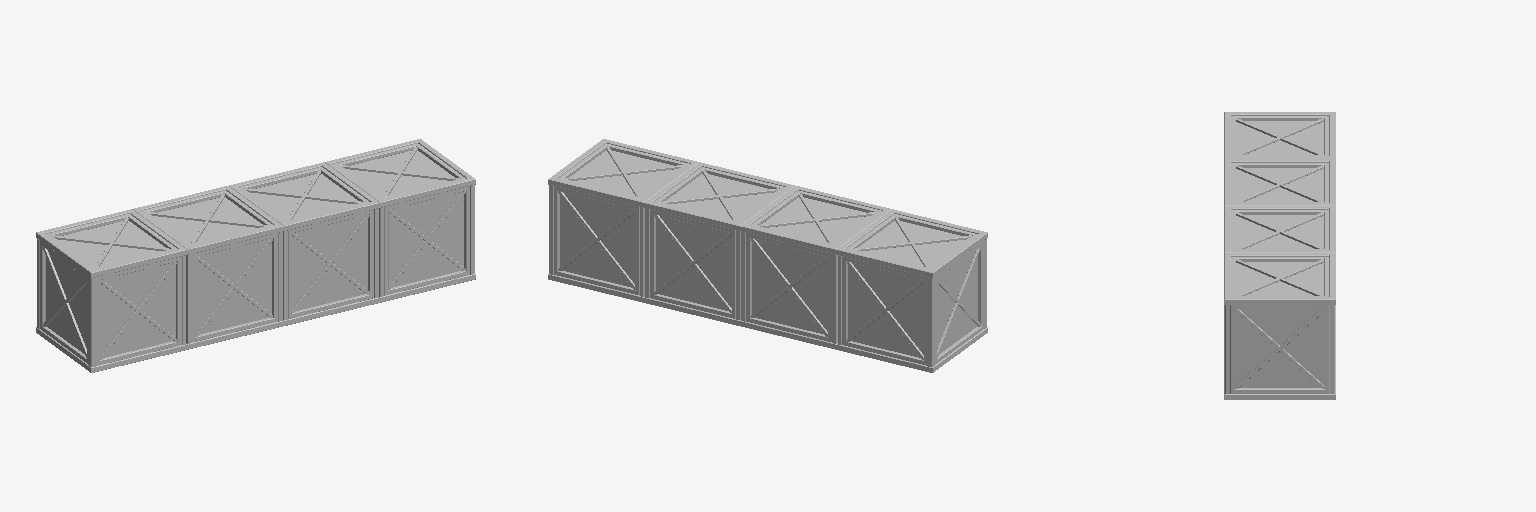
The model's file is metal.obj.
3 views of the same model, side by side, from view 1: azimuth 30°, elevation 25°; view 2: azimuth 150°, elevation 25°; view 3: azimuth 270°, elevation 25° (orthographic).
Parts seen in each view (by area): view 1: Mars Kitbash - Metal Container.obj; view 2: Mars Kitbash - Metal Container.obj; view 3: Mars Kitbash - Metal Container.obj.
Boxes of the visible parts, <box> form: Mars Kitbash - Metal Container.obj: <box>36,139,475,372</box>; Mars Kitbash - Metal Container.obj: <box>548,139,987,372</box>; Mars Kitbash - Metal Container.obj: <box>1224,112,1335,399</box>.
Size of the model in its own units: 17.6 by 4.4 by 4.4.